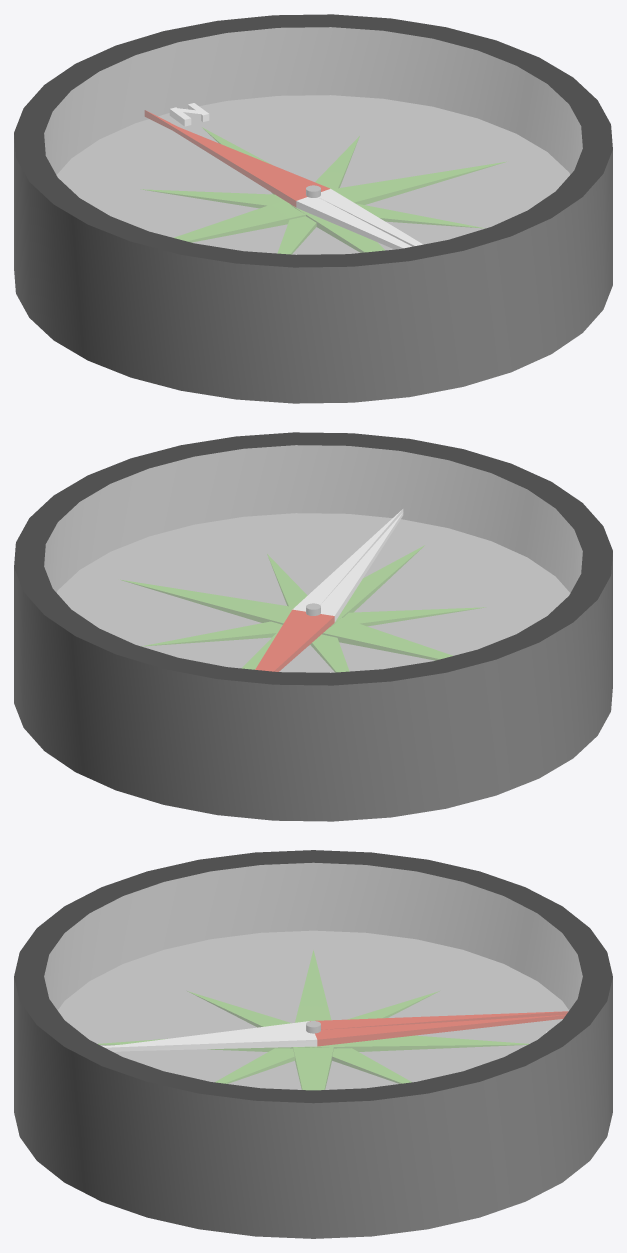
The model's file is compass.glb.
3 views of the same model, one above another, from view 1: azimuth 30°, elevation 25°; view 2: azimuth 150°, elevation 25°; view 3: azimuth 270°, elevation 25° (orthographic).
Visible parts, largest first — view 1: Cylinder.007, Cylinder.006; view 2: Cylinder.007, Cylinder.006; view 3: Cylinder.007, Cylinder.006.
Part boxes in pixels (left/top/right/bottom): Cylinder.007: left=14, top=14, right=612, bottom=403; Cylinder.006: left=44, top=27, right=582, bottom=254; Cylinder.007: left=14, top=432, right=612, bottom=821; Cylinder.006: left=44, top=445, right=582, bottom=672; Cylinder.007: left=14, top=850, right=612, bottom=1238; Cylinder.006: left=44, top=862, right=582, bottom=1090.
Bounding box in the file's own units: 8 × 2 × 8.
2 materials, 1 textured.
